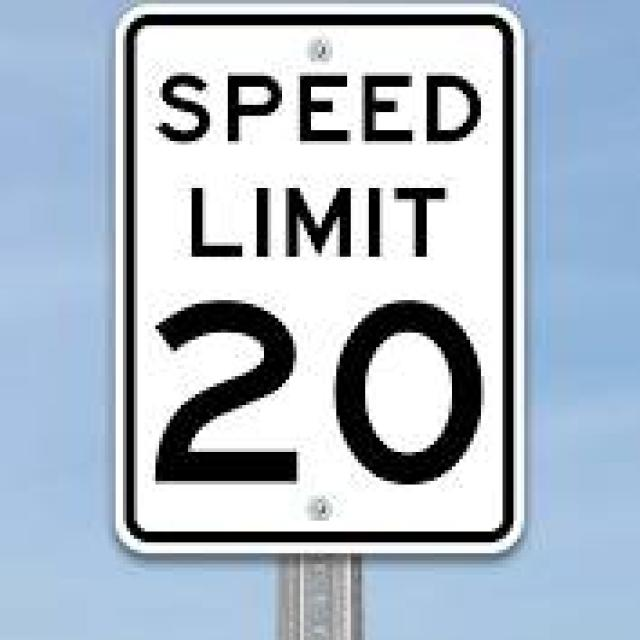speedLimit20: (116, 6, 524, 552)
